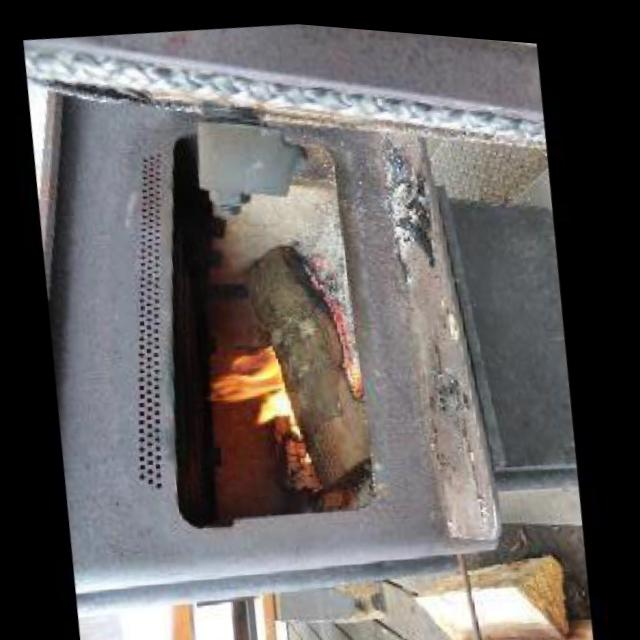Fire: (208, 334, 304, 438)
